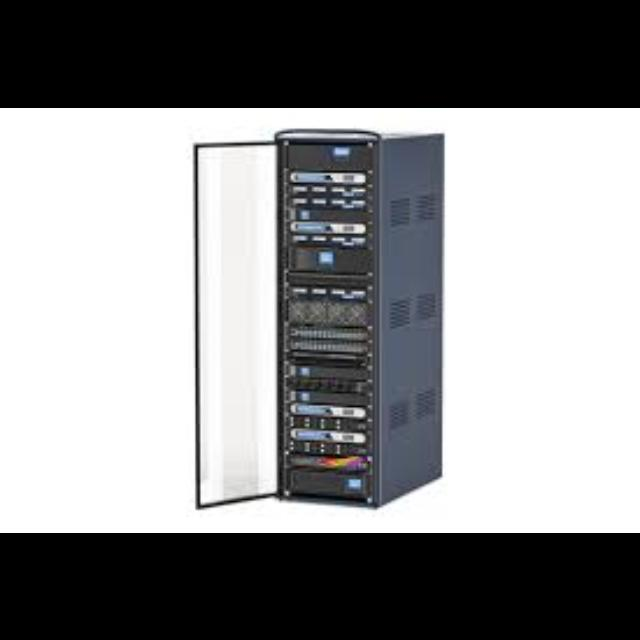Server: (260, 127, 392, 510)
